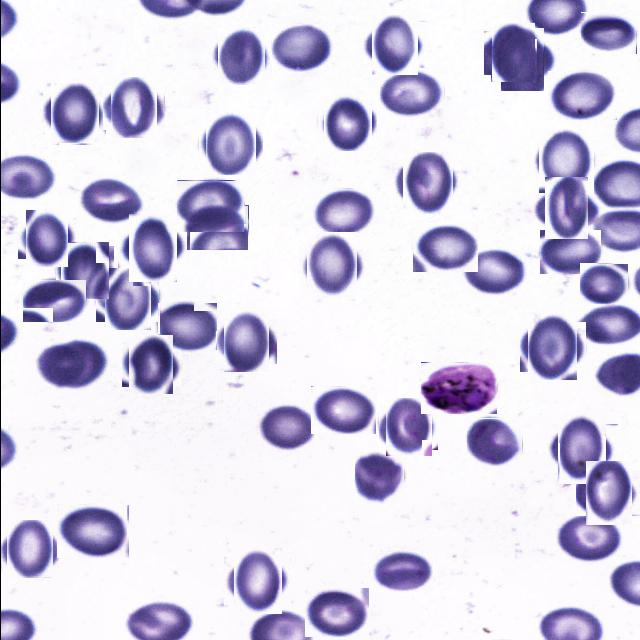difficult: (420, 362, 497, 414)
red blood cell: (56, 504, 129, 558), (37, 338, 110, 389), (551, 418, 611, 478), (536, 130, 596, 190), (176, 180, 244, 232), (547, 70, 617, 120), (302, 236, 361, 295), (523, 318, 581, 376), (228, 552, 286, 610), (122, 219, 180, 277), (552, 514, 622, 562), (304, 588, 369, 638), (379, 68, 444, 118), (461, 248, 528, 296), (202, 115, 258, 172), (398, 154, 455, 210), (412, 223, 477, 272), (310, 386, 376, 434), (46, 86, 101, 142), (580, 465, 635, 521), (271, 24, 334, 72), (366, 18, 421, 72), (312, 188, 375, 235), (80, 179, 145, 224), (106, 80, 160, 134), (100, 272, 154, 326), (218, 314, 272, 368), (157, 302, 217, 350), (320, 95, 374, 148), (185, 205, 248, 250), (381, 401, 434, 454), (214, 29, 267, 82), (352, 452, 404, 506), (494, 34, 548, 86), (256, 404, 314, 452), (539, 182, 592, 234), (125, 338, 177, 391), (57, 244, 110, 296), (22, 279, 86, 322), (3, 524, 55, 576), (466, 418, 522, 466), (539, 230, 600, 274), (487, 27, 538, 79), (370, 550, 432, 592), (21, 213, 71, 263), (580, 12, 636, 54), (579, 263, 628, 304)
